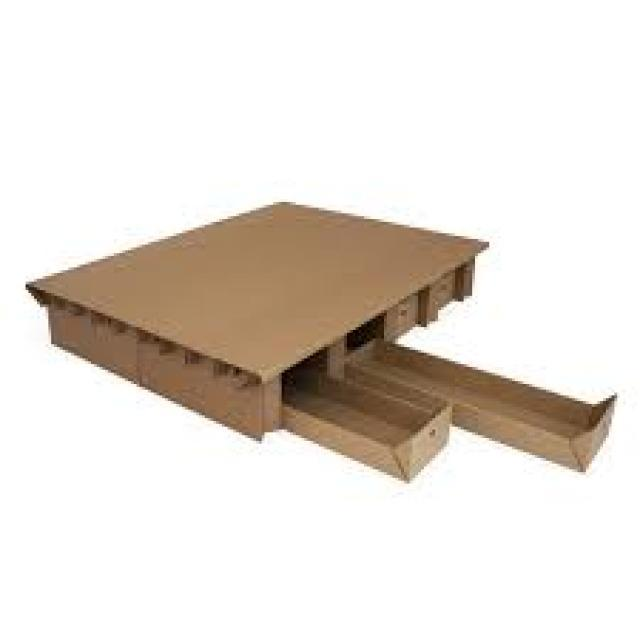Cardboard: (30, 200, 487, 429)
